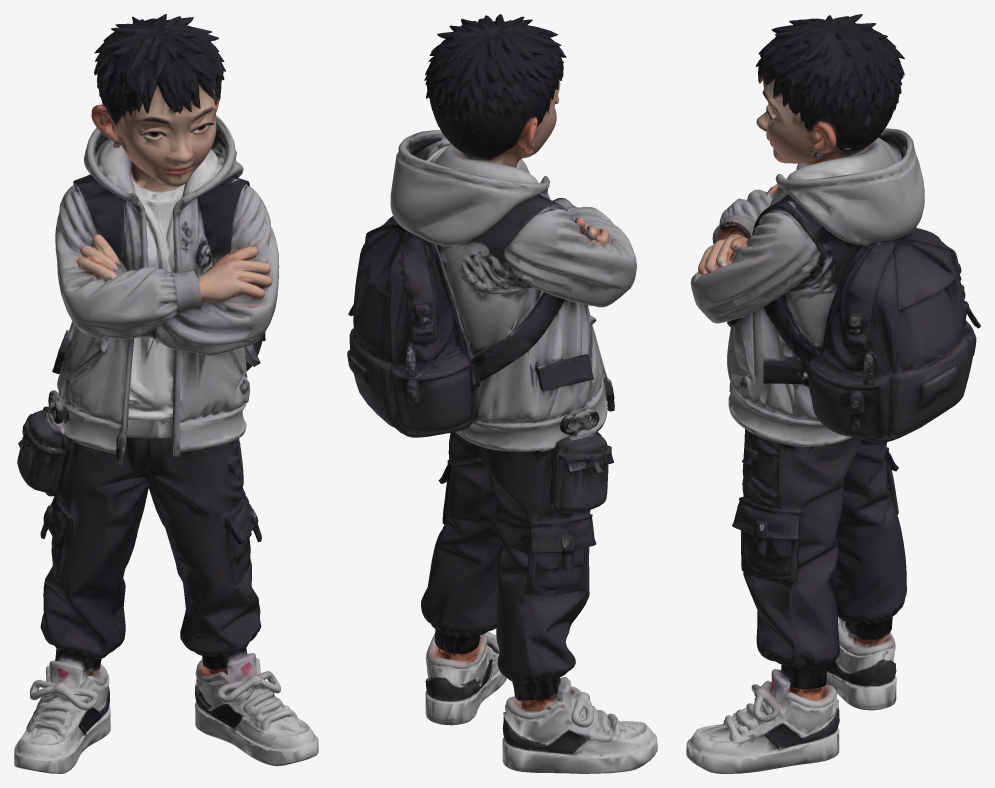
Rendered from avatar1.glb.
The picture shows the model from 3 angles, left to right: view 1: azimuth 30°, elevation 25°; view 2: azimuth 150°, elevation 25°; view 3: azimuth 270°, elevation 25°; orthographic projection.
Visible parts, largest first — view 1: texture_pbr_v128; view 2: texture_pbr_v128; view 3: texture_pbr_v128.
Part boxes in pixels (x1,y1,x2,y2): texture_pbr_v128: [14, 14, 318, 773]; texture_pbr_v128: [347, 14, 657, 773]; texture_pbr_v128: [686, 14, 980, 773].
Bounding box in the file's own units: 0.4483 × 1.1 × 0.4174.
1 material, 1 textured.
